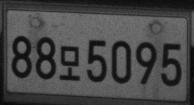0: (110, 39, 132, 84)
5: (160, 43, 182, 86)
8: (34, 35, 57, 79), (10, 35, 33, 78)
9: (135, 41, 157, 85)
모: (85, 39, 108, 82), (59, 45, 81, 81)
